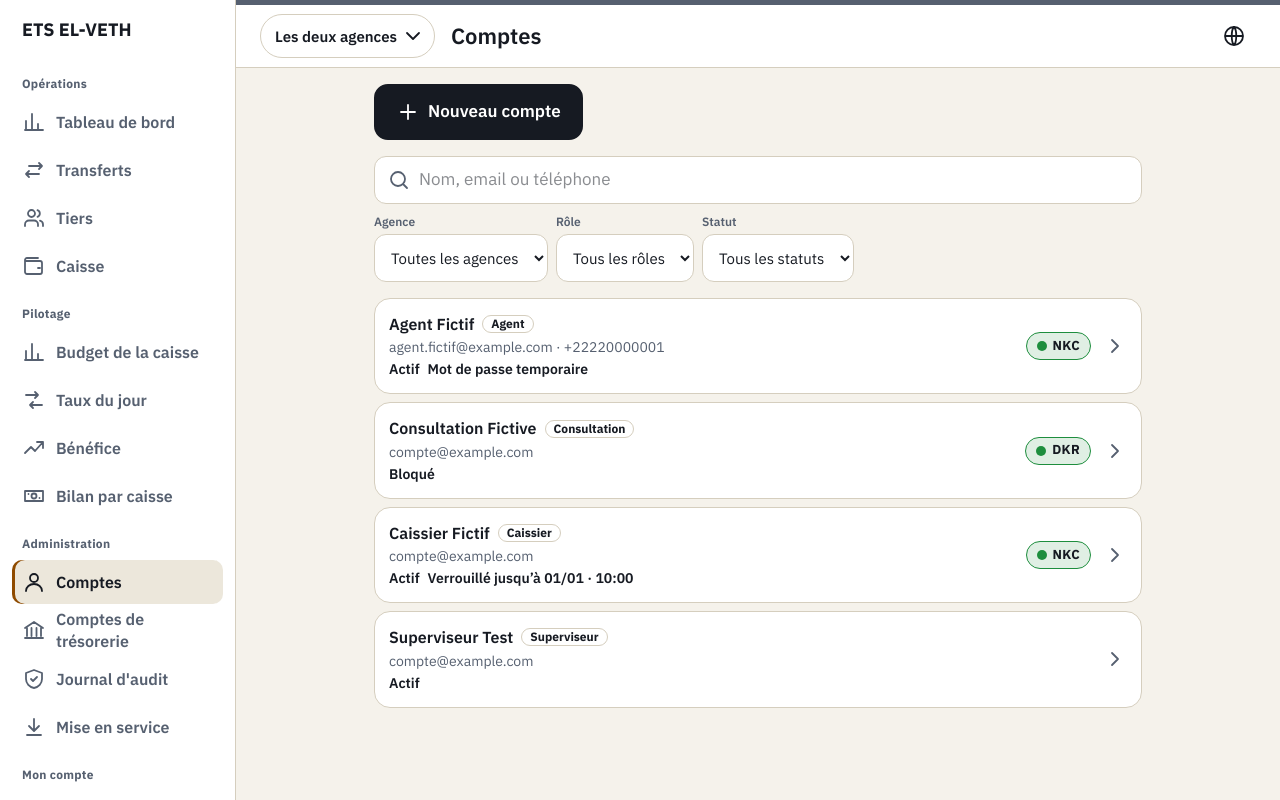
Comptes — liste › crée un compte et affiche son mot de passe temporaire une seule fois
Click the button "Nouveau compte" at (478, 112), box [374,84,583,140]
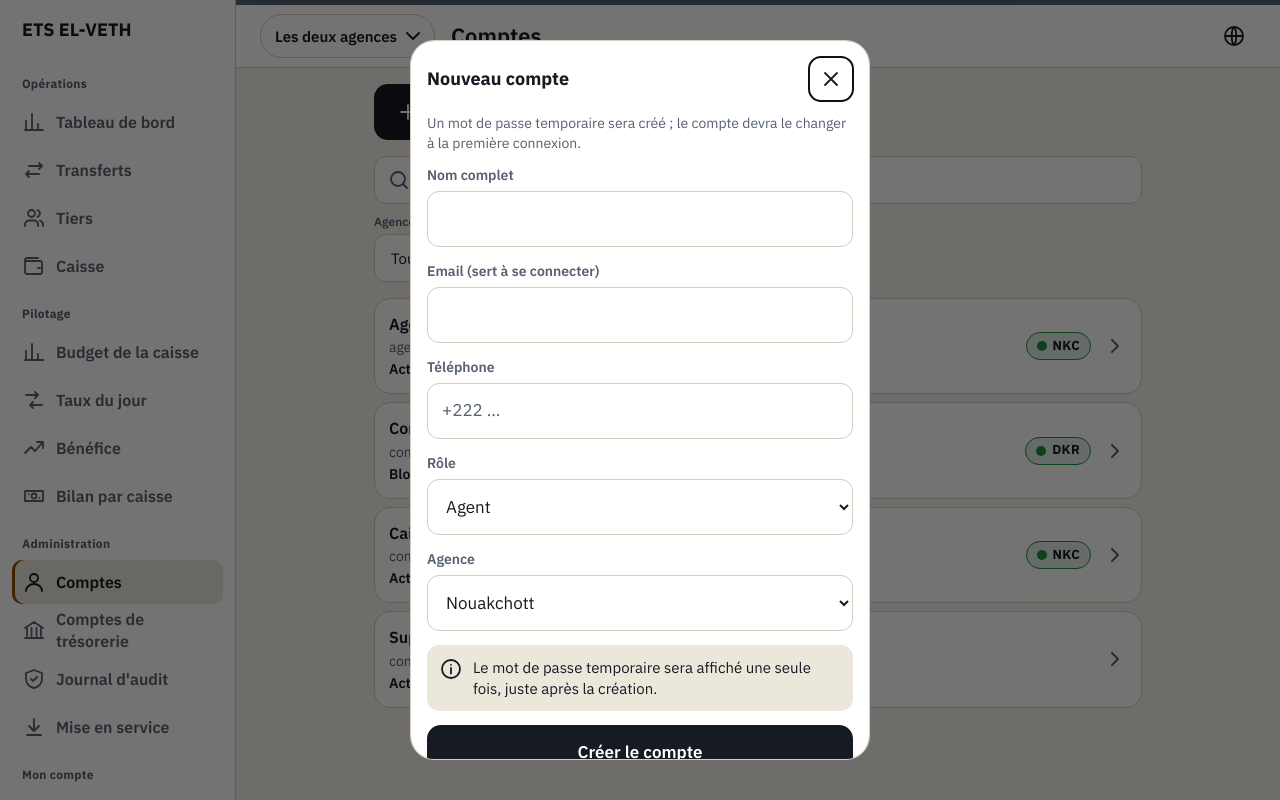
Type "Caissier Neuf" into the field labelled "Nom complet" at (640, 219), box [428,193,852,245]
Type "caissier.neuf@example.com" into the field labelled "Email (sert à se connecter)" at (640, 315), box [428,289,852,341]
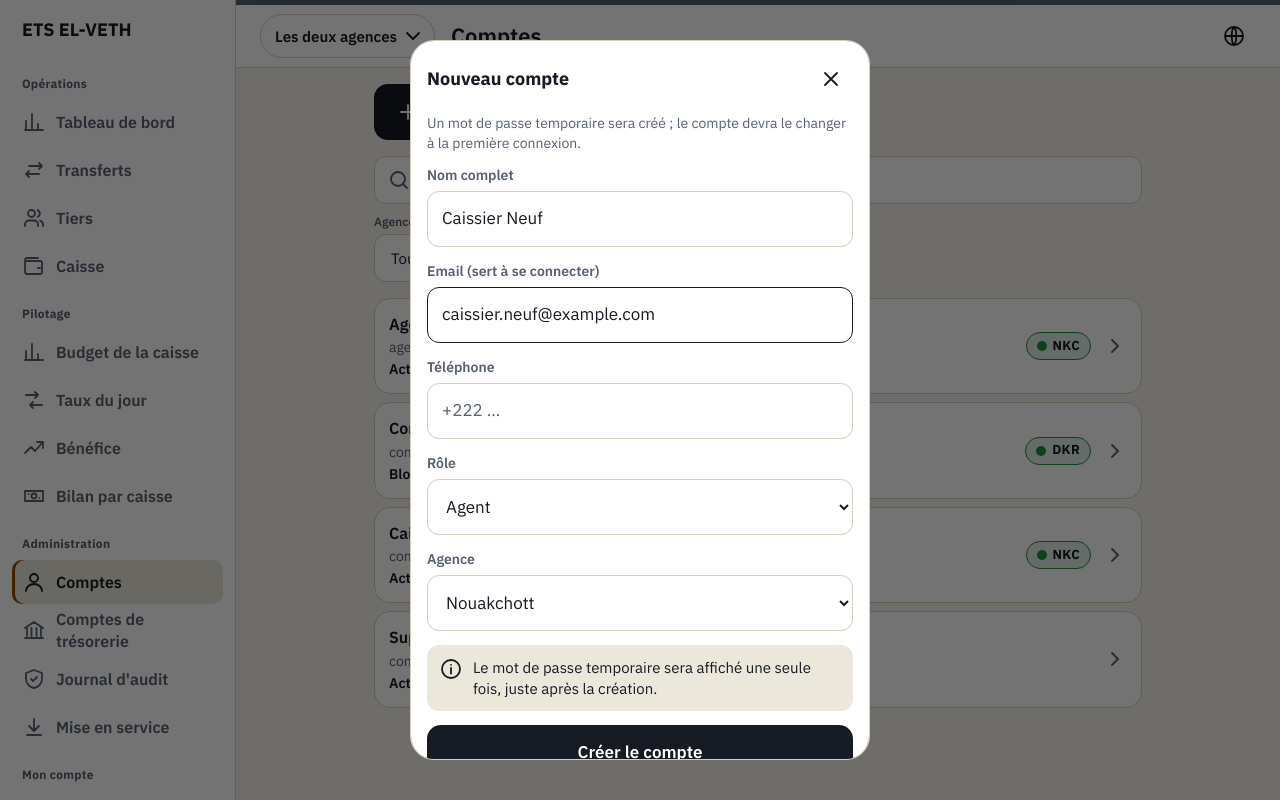
Select "Caissier" in the dropdown labelled "Rôle" at (640, 507), box [427,479,853,535]
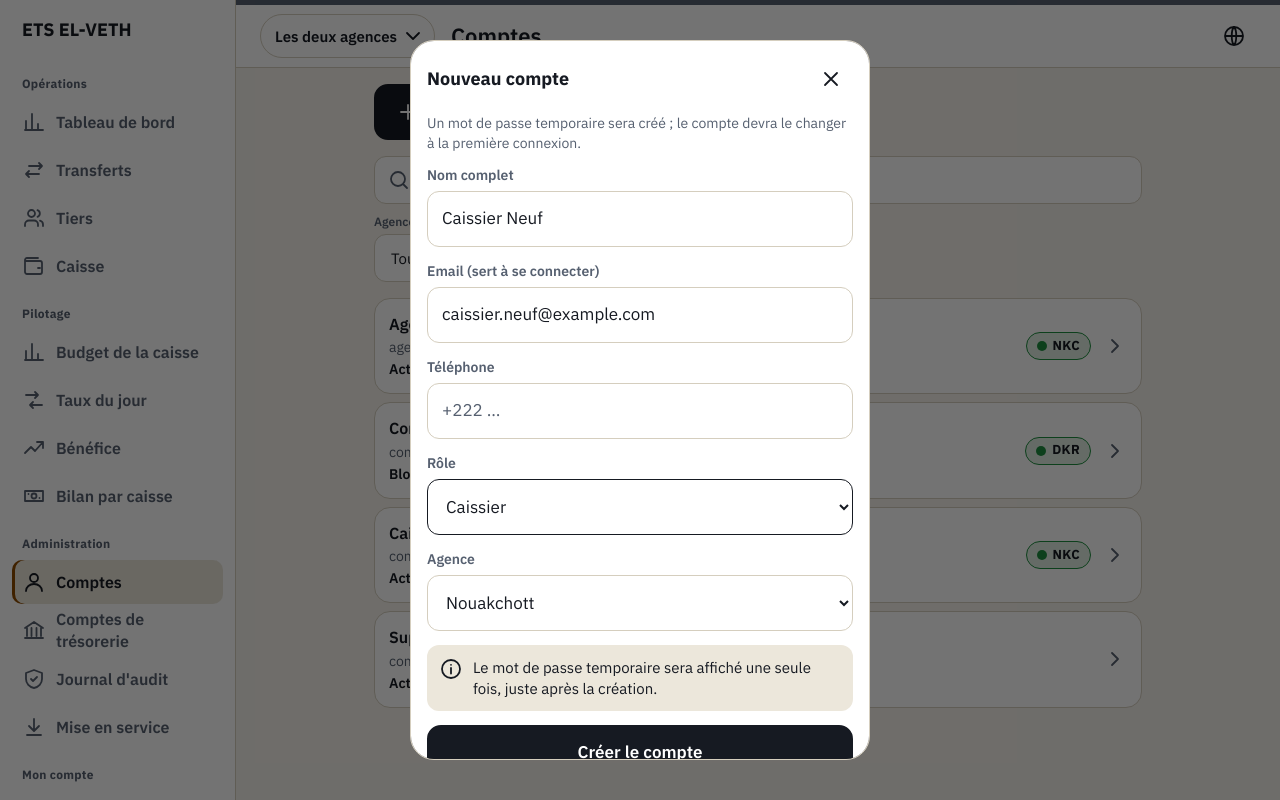
Select "Dakar" in the dropdown labelled "Agence" at (640, 603), box [427,575,853,631]
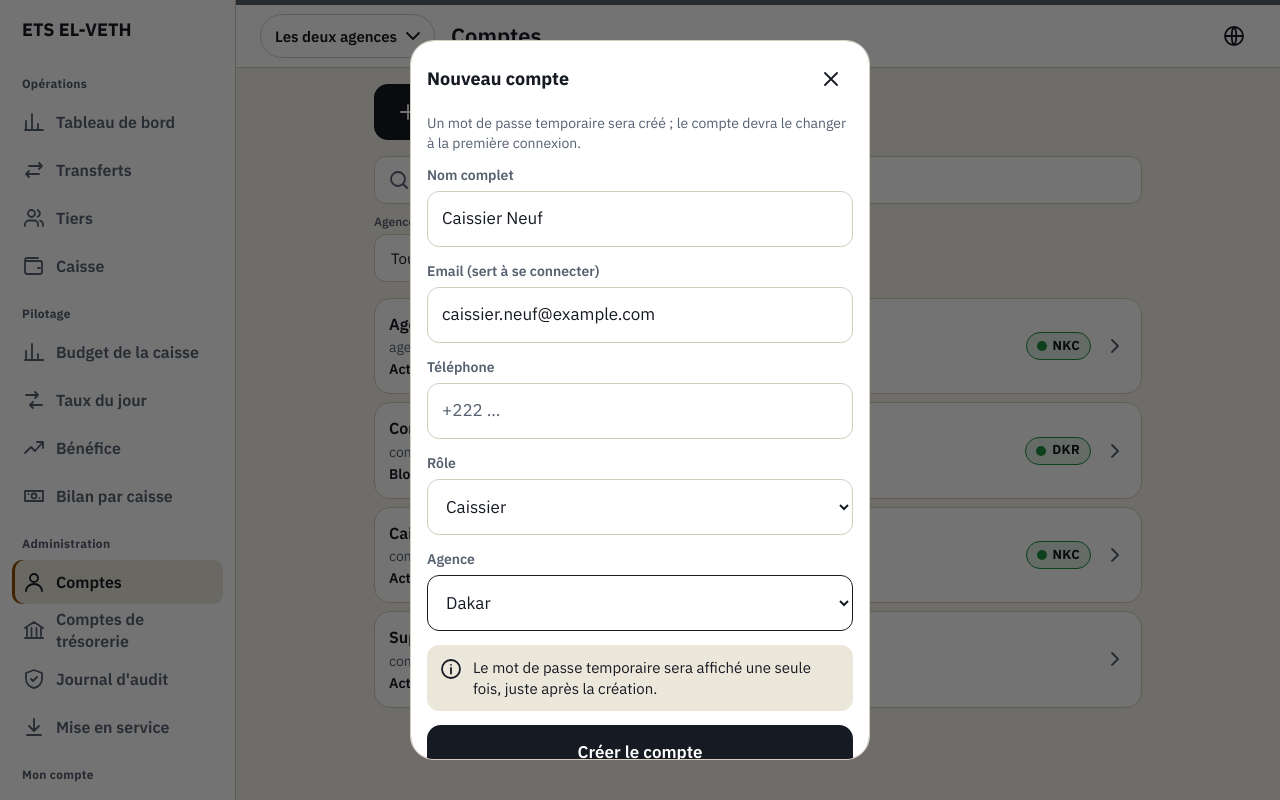
Click the button "Créer le compte" at (640, 753), box [427,725,853,781]
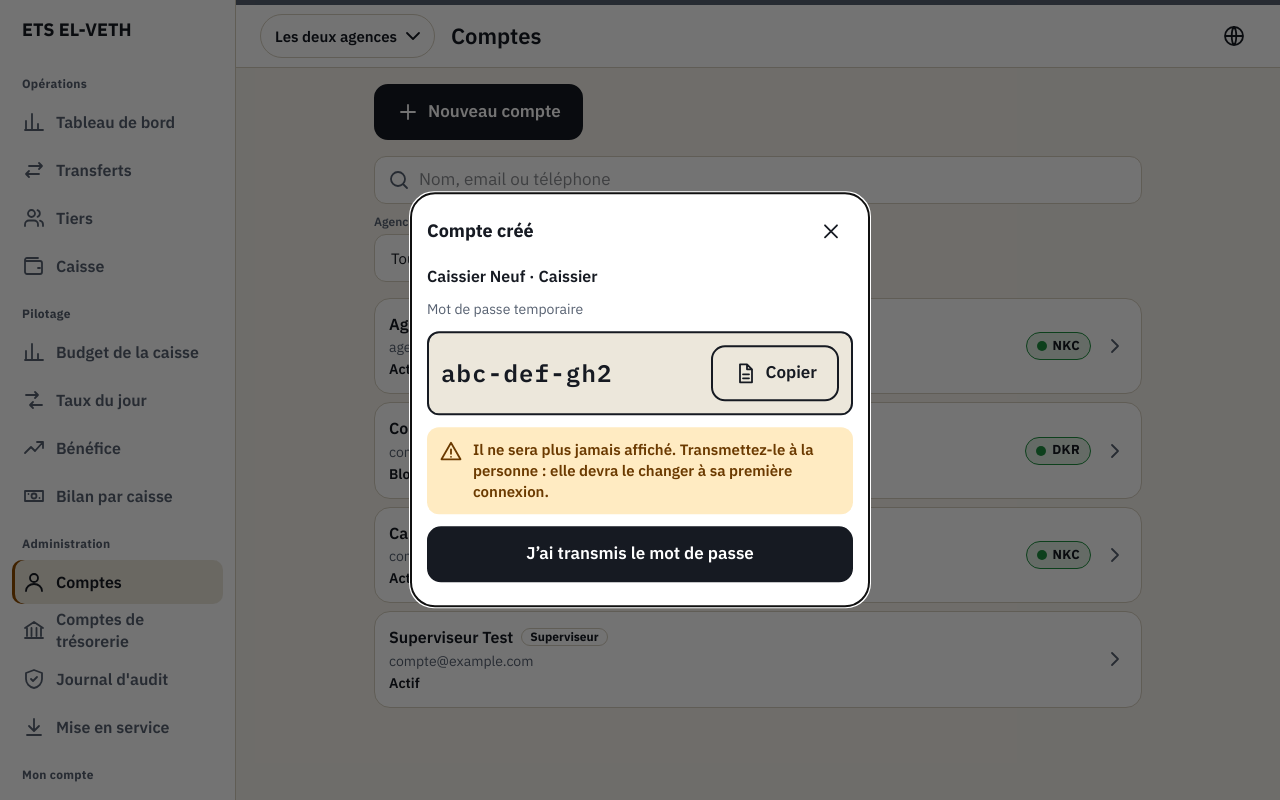
Check: the text with test id "temporary-password" reads "abc-def-gh2", box [441,358,613,390]
Check: the text "Il ne sera plus jamais affiché" is shown, box [473,441,814,502]
Click the button "J’ai transmis le mot de passe" at (640, 555), box [427,527,853,583]
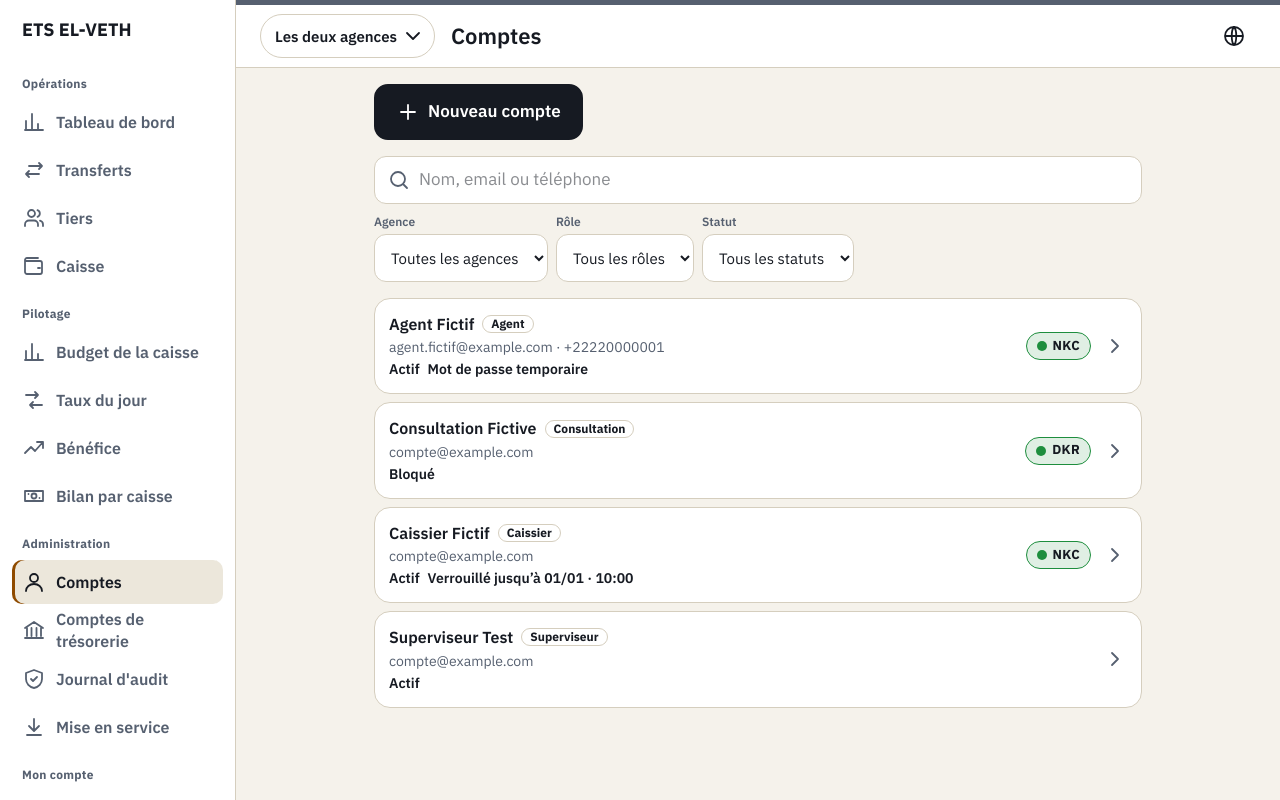
Check: the dialog is gone
